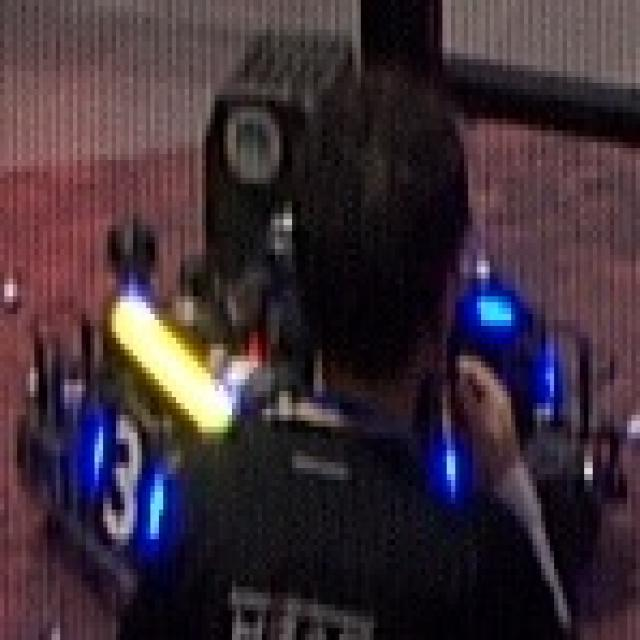B3: (75, 400, 174, 548)
